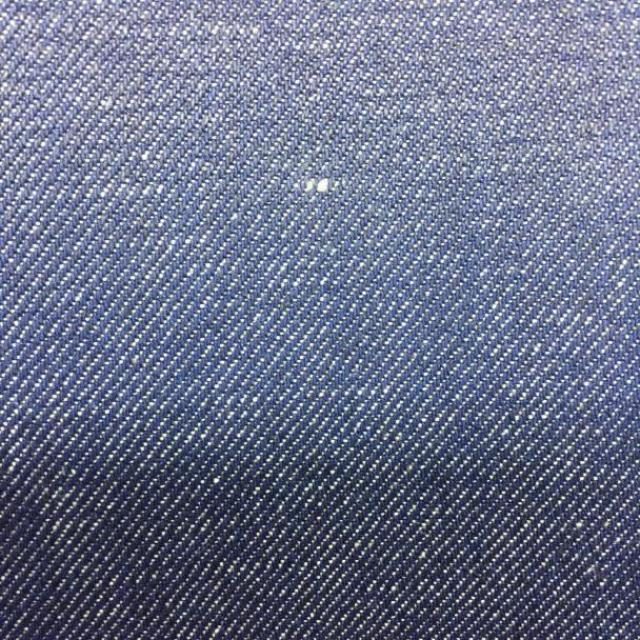Knot: (303, 177, 340, 193)
